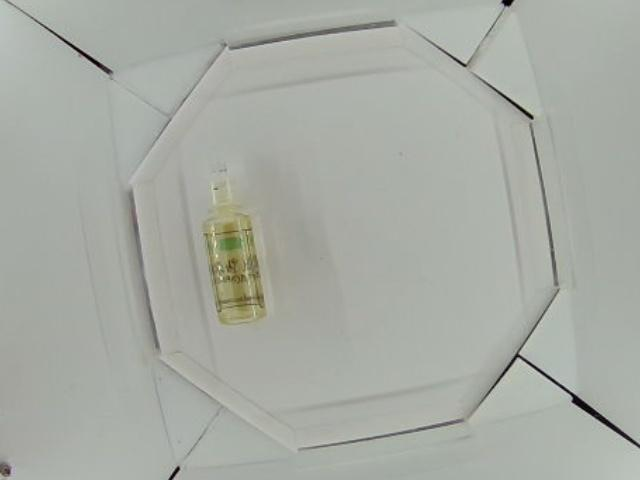Bottle: (195, 161, 271, 326)
